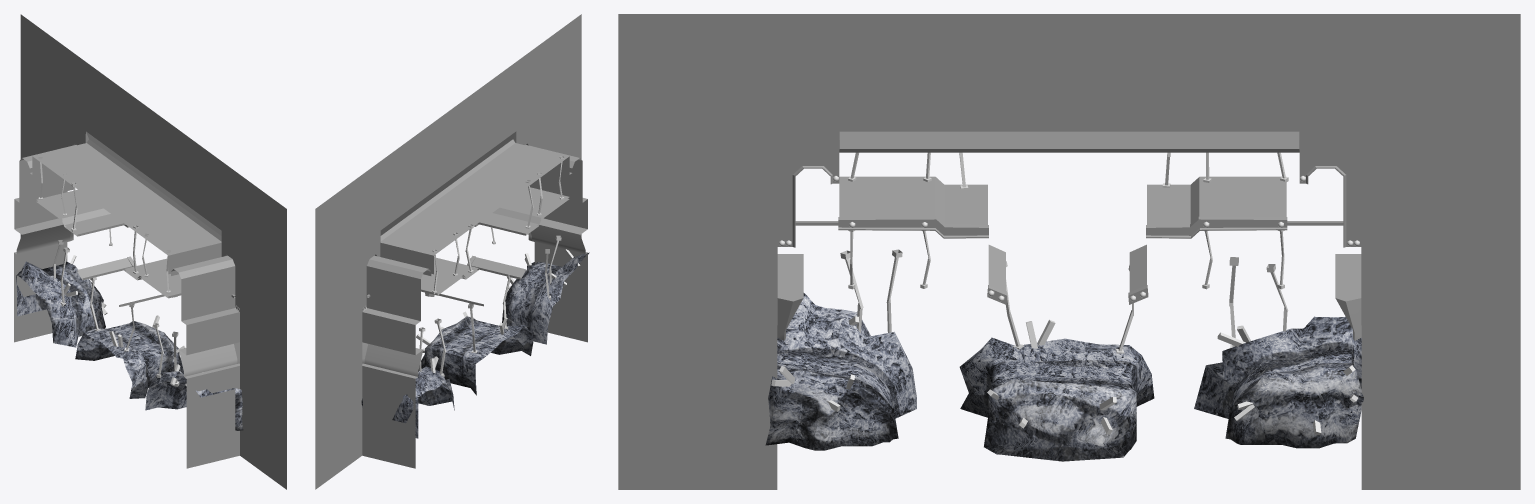
File: TrashCompactor_Foreground.fbx
The picture shows the model from 3 angles, left to right: view 1: azimuth 30°, elevation 25°; view 2: azimuth 150°, elevation 25°; view 3: azimuth 270°, elevation 25°; orthographic projection. The views are drawn at different scales.
Visible parts, largest first — view 1: polySurface5, polySurface6, polySurface7, polySurface2, polySurface8, polySurface1, polySurface3; view 2: polySurface5, polySurface7, polySurface8, polySurface1, polySurface6, polySurface2, polySurface4; view 3: polySurface5, polySurface7, polySurface8, polySurface6, polySurface1, polySurface2, polySurface4, polySurface3.
Part boxes in pixels (x1=…): polySurface5: x1=14, y1=14, x2=286, y2=489; polySurface6: x1=16, y1=261, x2=105, y2=347; polySurface7: x1=75, y1=321, x2=183, y2=398; polySurface2: x1=36, y1=189, x2=128, y2=236; polySurface8: x1=145, y1=371, x2=243, y2=430; polySurface1: x1=124, y1=258, x2=235, y2=298; polySurface3: x1=77, y1=256, x2=134, y2=280; polySurface5: x1=315, y1=14, x2=587, y2=489; polySurface7: x1=418, y1=316, x2=534, y2=395; polySurface8: x1=502, y1=252, x2=589, y2=344; polySurface1: x1=474, y1=187, x2=569, y2=235; polySurface6: x1=361, y1=366, x2=454, y2=438; polySurface2: x1=367, y1=257, x2=478, y2=297; polySurface4: x1=467, y1=255, x2=525, y2=279; polySurface5: x1=618, y1=14, x2=1520, y2=489; polySurface7: x1=959, y1=337, x2=1154, y2=461; polySurface8: x1=765, y1=293, x2=916, y2=450; polySurface6: x1=1194, y1=316, x2=1363, y2=448; polySurface1: x1=795, y1=176, x2=988, y2=238; polySurface2: x1=1146, y1=176, x2=1343, y2=238; polySurface4: x1=987, y1=245, x2=1007, y2=304; polySurface3: x1=1128, y1=244, x2=1148, y2=304.
Size of the model in its own units: 17218 by 60155 by 103333.
